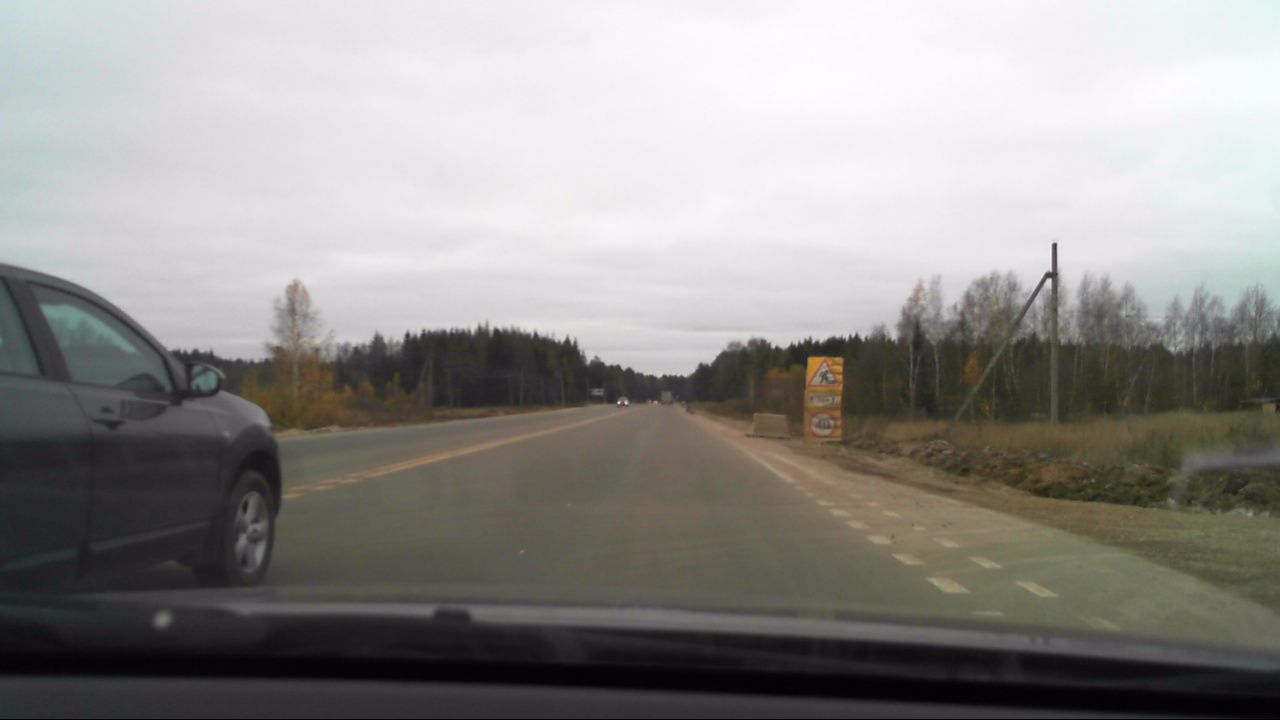speed_warning_40: (810, 410, 835, 437)
